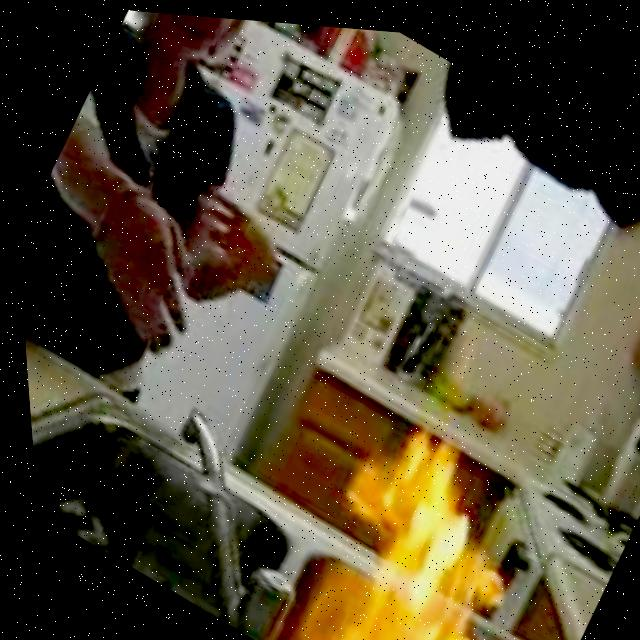Fire: (248, 391, 556, 640)
